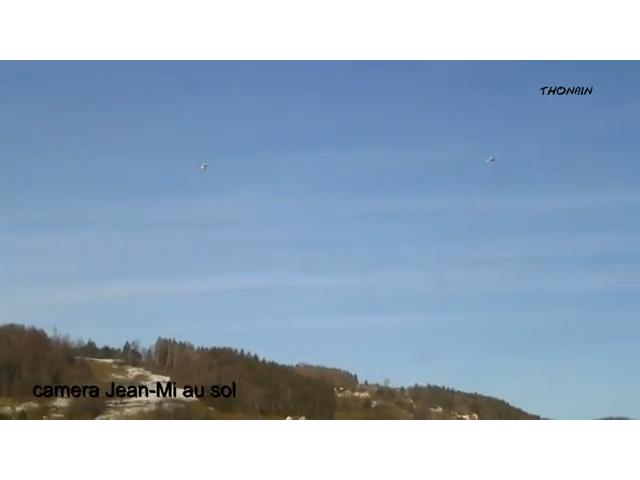Anti-Drone: (484, 152, 502, 174), (196, 161, 218, 173)
